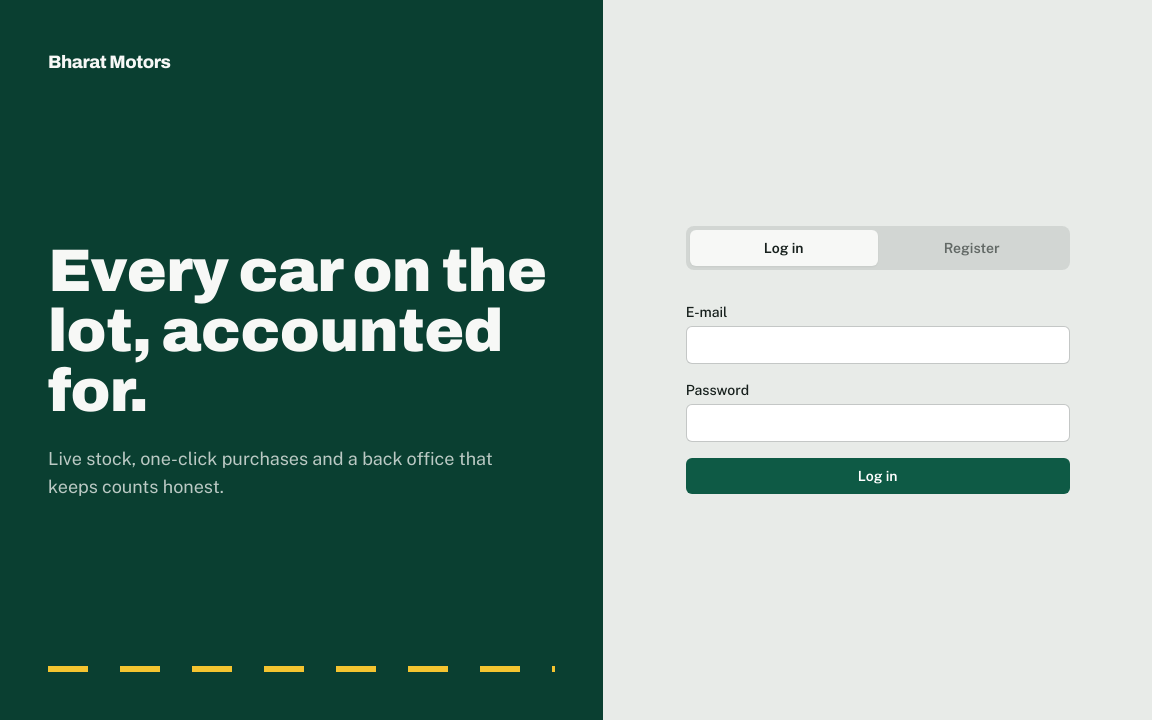
Scenario: <AuthPage /> › shows the server error message when login fails
The image size is (1152, 720).
Type "a@b.co" into the field labelled "E-mail" at (878, 345), box [686,326,1070,364]
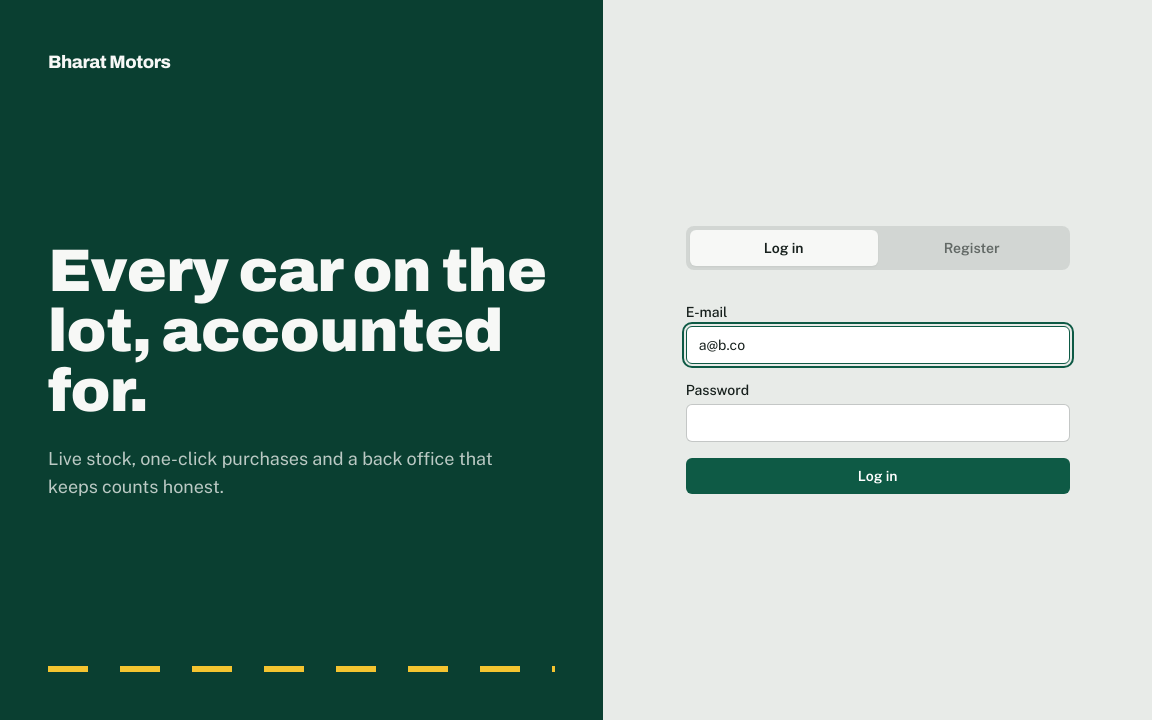
Type "xxxxxxxx" into the password field labelled "Password" at (878, 423), box [686,404,1070,442]
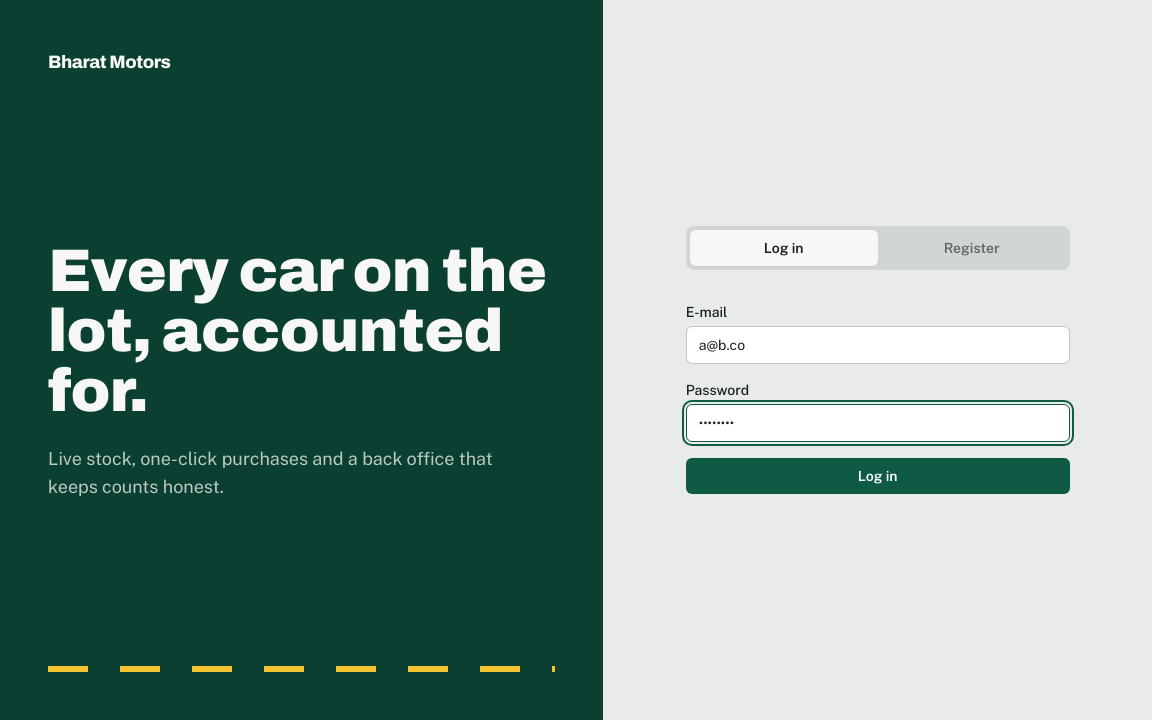
Click the button "Log in" at (878, 476), box [686,458,1070,494]
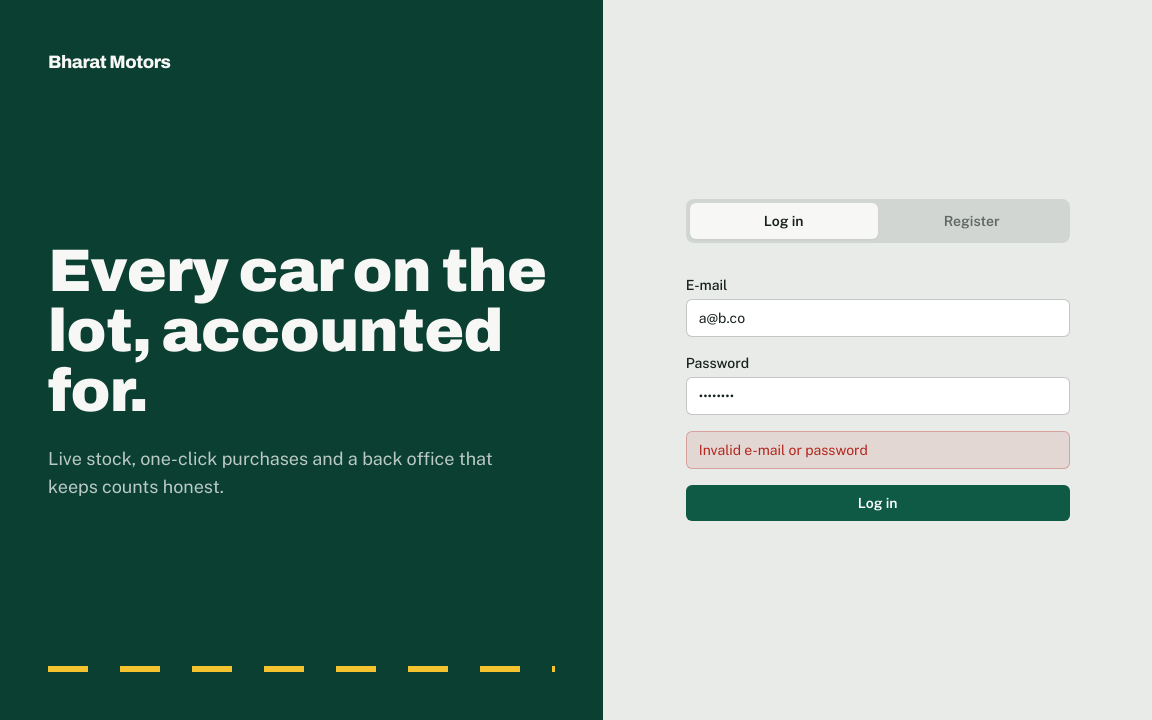
Expected: the message reads "Invalid e-mail or password", [699,442,868,458]
